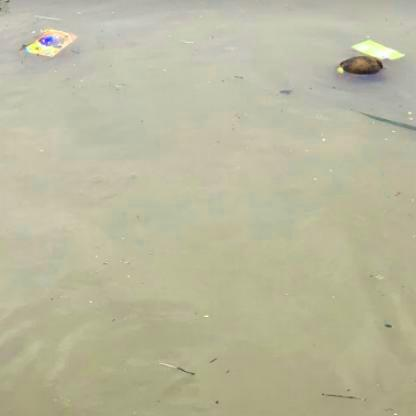Trash: (19, 22, 82, 65), (344, 32, 408, 66)
